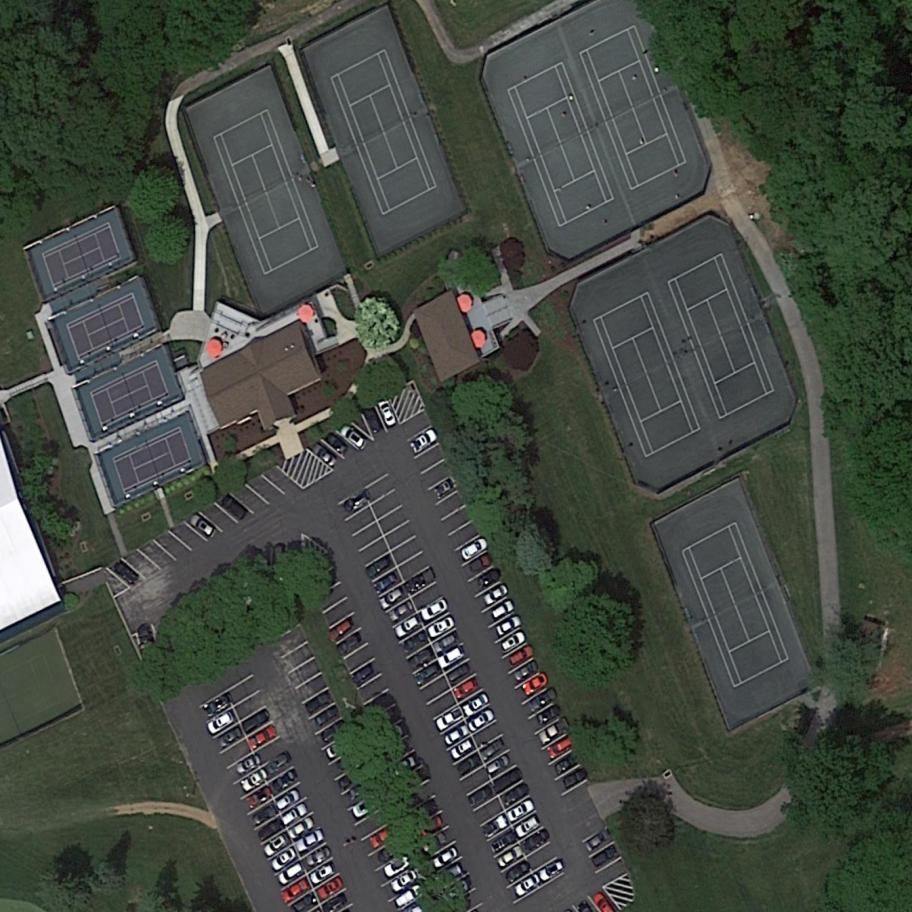large-vehicle: (499, 857, 534, 888), (484, 752, 515, 779), (401, 765, 430, 790)
small-vehicle: (335, 420, 373, 454), (184, 510, 221, 544), (406, 424, 443, 458), (216, 491, 252, 524), (455, 531, 492, 563), (340, 486, 377, 517), (536, 717, 573, 748), (386, 865, 423, 896), (468, 566, 504, 597), (204, 707, 240, 738), (543, 732, 580, 762), (277, 876, 314, 906), (109, 555, 143, 587), (404, 565, 439, 596), (267, 843, 302, 874), (535, 855, 571, 885), (392, 881, 428, 911), (413, 811, 448, 841), (428, 842, 463, 872), (495, 628, 530, 658), (526, 685, 561, 715), (582, 826, 617, 856), (461, 552, 496, 582), (291, 827, 327, 856), (465, 704, 499, 734), (478, 812, 512, 842), (479, 579, 513, 609), (267, 766, 301, 796), (305, 858, 339, 888), (418, 595, 453, 624), (381, 852, 416, 881), (588, 841, 623, 870), (245, 723, 280, 752), (284, 814, 319, 843), (133, 622, 161, 658), (519, 827, 555, 855), (392, 612, 425, 642), (519, 670, 552, 700), (493, 842, 526, 872), (436, 644, 470, 673), (239, 707, 273, 736), (275, 859, 309, 888), (498, 782, 533, 810), (491, 766, 526, 794), (322, 428, 354, 458), (506, 642, 539, 671), (486, 828, 519, 857), (350, 793, 384, 821), (560, 763, 594, 791), (506, 796, 540, 824), (301, 843, 335, 871), (313, 874, 347, 902), (309, 441, 341, 470), (477, 736, 509, 765), (367, 822, 400, 850), (428, 473, 461, 501), (442, 875, 475, 903), (492, 613, 525, 641), (465, 782, 498, 810), (213, 723, 246, 751), (239, 765, 272, 793), (375, 396, 401, 431), (303, 689, 335, 717), (510, 872, 543, 899), (433, 706, 466, 733), (419, 830, 452, 857), (377, 585, 410, 612), (509, 658, 542, 685), (201, 691, 234, 718), (326, 617, 357, 645), (334, 631, 365, 659), (400, 630, 432, 657), (412, 661, 444, 688), (451, 676, 483, 703), (375, 838, 407, 865), (363, 554, 395, 581), (454, 751, 485, 778), (444, 660, 476, 686), (324, 733, 356, 759), (377, 722, 409, 748), (514, 813, 546, 839), (350, 661, 380, 688), (487, 597, 517, 624), (441, 722, 472, 748), (426, 614, 457, 640), (244, 784, 275, 810), (234, 752, 264, 778), (407, 646, 438, 671), (318, 719, 349, 744), (533, 702, 564, 727), (390, 752, 419, 778), (274, 786, 303, 812), (280, 801, 309, 827), (436, 861, 466, 886), (250, 802, 280, 827), (262, 832, 292, 857), (335, 767, 366, 791), (387, 600, 416, 625), (265, 752, 294, 777), (431, 631, 461, 655), (461, 692, 491, 716), (256, 818, 286, 842), (448, 738, 477, 762), (312, 705, 341, 729), (372, 571, 401, 595), (553, 752, 583, 775), (362, 406, 384, 435)
